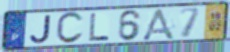6: (118, 8, 142, 43)
7: (179, 6, 201, 40)
A: (139, 7, 177, 41)
C: (55, 11, 85, 46)
J: (28, 13, 53, 45)
L: (88, 12, 111, 42)
